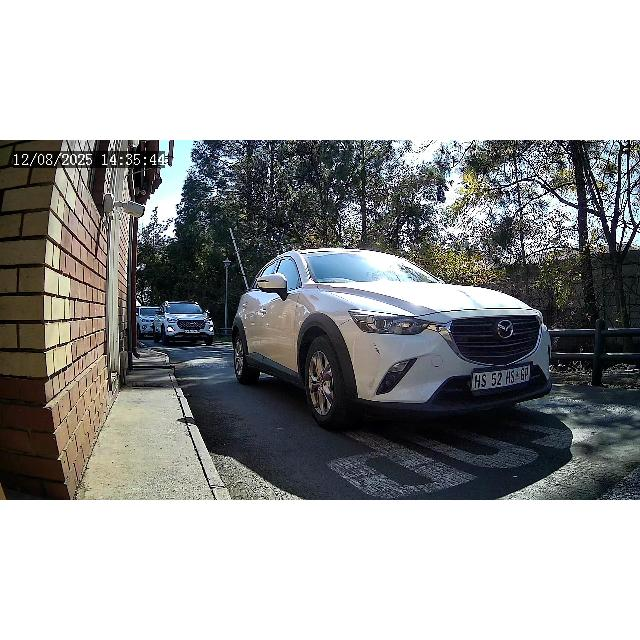car: (231, 248, 554, 430), (153, 300, 215, 348)
plate: (472, 367, 530, 391), (183, 328, 200, 334)
